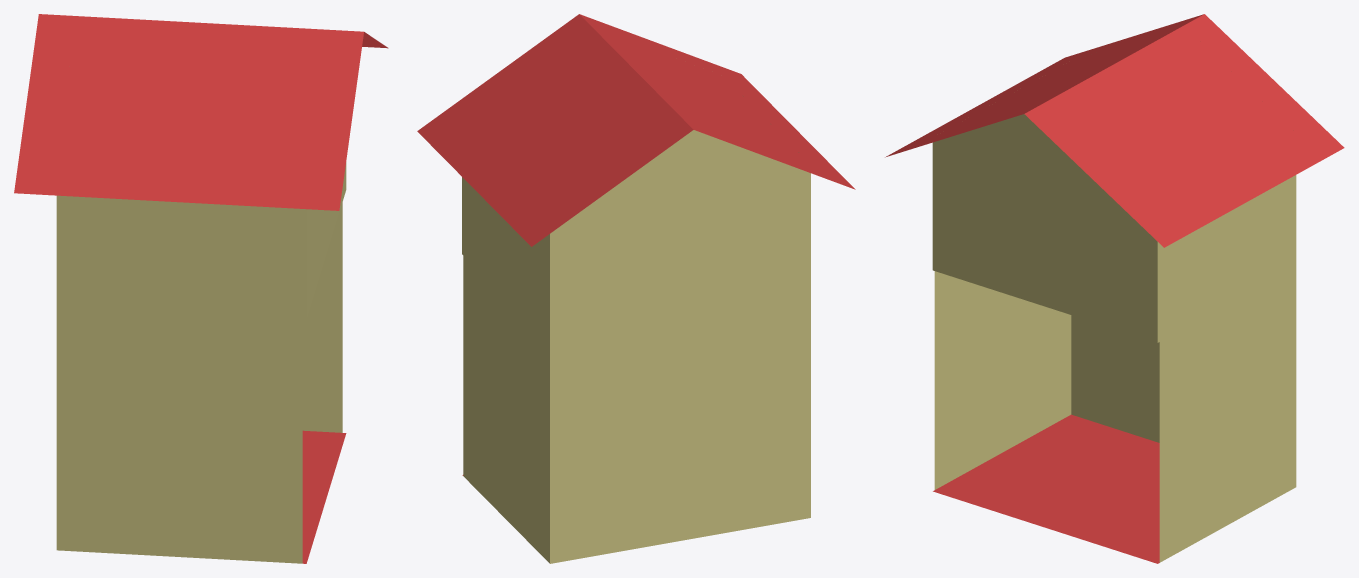
3 renders of one model, left to right at view 1: azimuth 30°, elevation 25°; view 2: azimuth 150°, elevation 25°; view 3: azimuth 270°, elevation 25°, orthographic. The views are drawn at different scales.
Visible parts, largest first — view 1: group_5, group_3, group_4, group_6; view 2: group_5, group_3, group_4; view 3: group_5, group_3, group_6, group_4.
Boxes of the visible parts, x1=… form: group_5: x1=56, y1=162, x2=346, y2=563; group_3: x1=36, y1=14, x2=353, y2=210; group_4: x1=14, y1=14, x2=388, y2=210; group_6: x1=302, y1=430, x2=346, y2=563; group_5: x1=462, y1=96, x2=810, y2=563; group_3: x1=417, y1=14, x2=810, y2=246; group_4: x1=532, y1=14, x2=855, y2=246; group_5: x1=932, y1=114, x2=1296, y2=562; group_3: x1=934, y1=15, x2=1343, y2=247; group_6: x1=933, y1=414, x2=1159, y2=563; group_4: x1=885, y1=14, x2=1344, y2=157.
Size of the model in its own units: 13.06 by 13.36 by 13.62.
